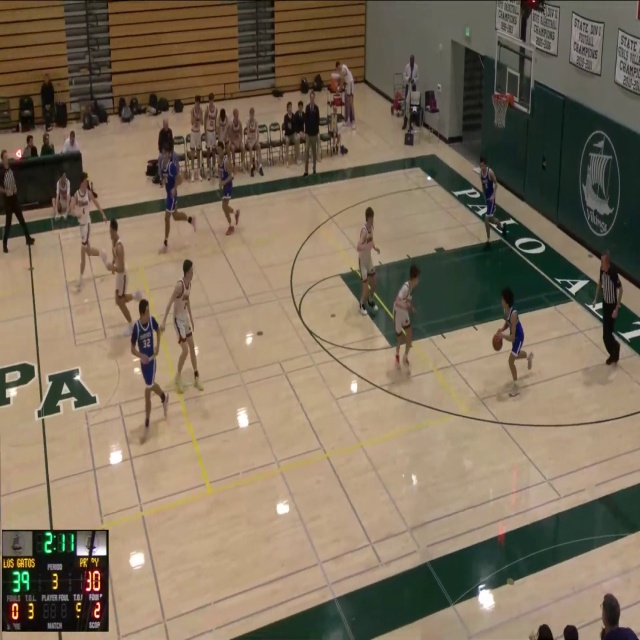Basketball: (492, 332, 502, 350)
